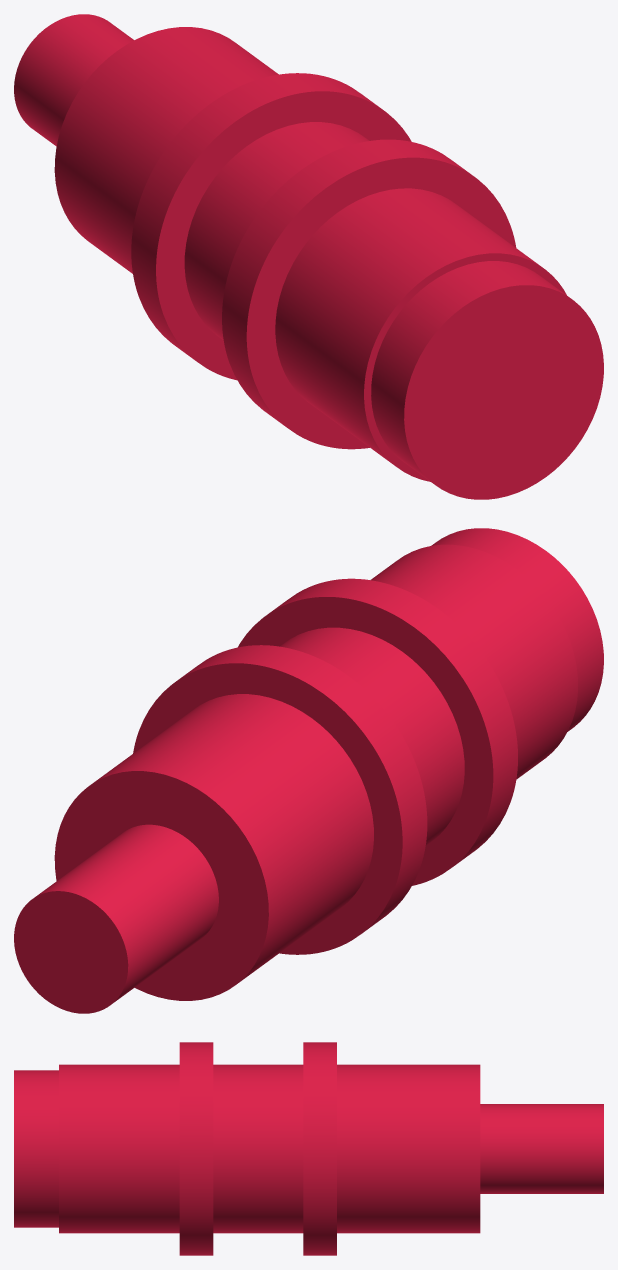
File: SENS-420MA.glb
3 renders of one model, top to bottom at view 1: azimuth 30°, elevation 25°; view 2: azimuth 150°, elevation 25°; view 3: azimuth 270°, elevation 25°, orthographic. The views are drawn at different scales.
Parts seen in each view (by area): view 1: SENS-420MA; view 2: SENS-420MA; view 3: SENS-420MA.
Part boxes in pixels (x1,y1,x2,y2): SENS-420MA: (14, 14, 603, 499); SENS-420MA: (14, 528, 603, 1013); SENS-420MA: (14, 1042, 603, 1255).
Bounding box in the file's own units: 0.038 × 0.038 × 0.105.
